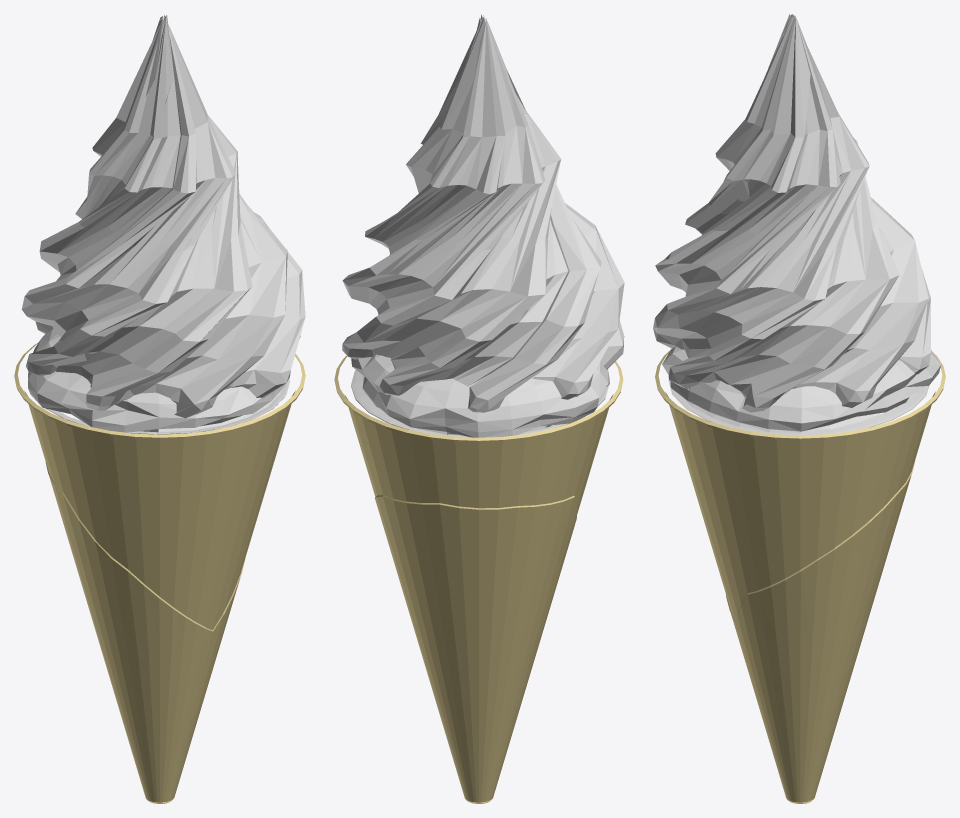
File: 0df72b06-0653-4e5c-9cd0-d0515ebb1da7.glb
The picture shows the model from 3 angles, left to right: view 1: azimuth 30°, elevation 25°; view 2: azimuth 150°, elevation 25°; view 3: azimuth 270°, elevation 25°; orthographic projection.
Visible parts, largest first — view 1: Scoop, Cone, cone-01, scoop0; view 2: Scoop, cone-01, Cone, scoop0; view 3: Scoop, Cone, cone-01, scoop0.
Part boxes in pixels (left/top/right/bottom): Scoop: left=21, top=15, right=305, bottom=434; Cone: left=14, top=343, right=305, bottom=630; cone-01: left=45, top=462, right=245, bottom=803; scoop0: left=28, top=329, right=290, bottom=434; Scoop: left=342, top=14, right=624, bottom=435; cone-01: left=375, top=495, right=576, bottom=803; Cone: left=334, top=356, right=623, bottom=514; scoop0: left=351, top=354, right=609, bottom=437; Scoop: left=653, top=14, right=930, bottom=416; Cone: left=655, top=351, right=945, bottom=621; cone-01: left=726, top=460, right=915, bottom=803; scoop0: left=662, top=346, right=941, bottom=435.
Size of the model in its own units: 67.47 by 201 by 67.91.
